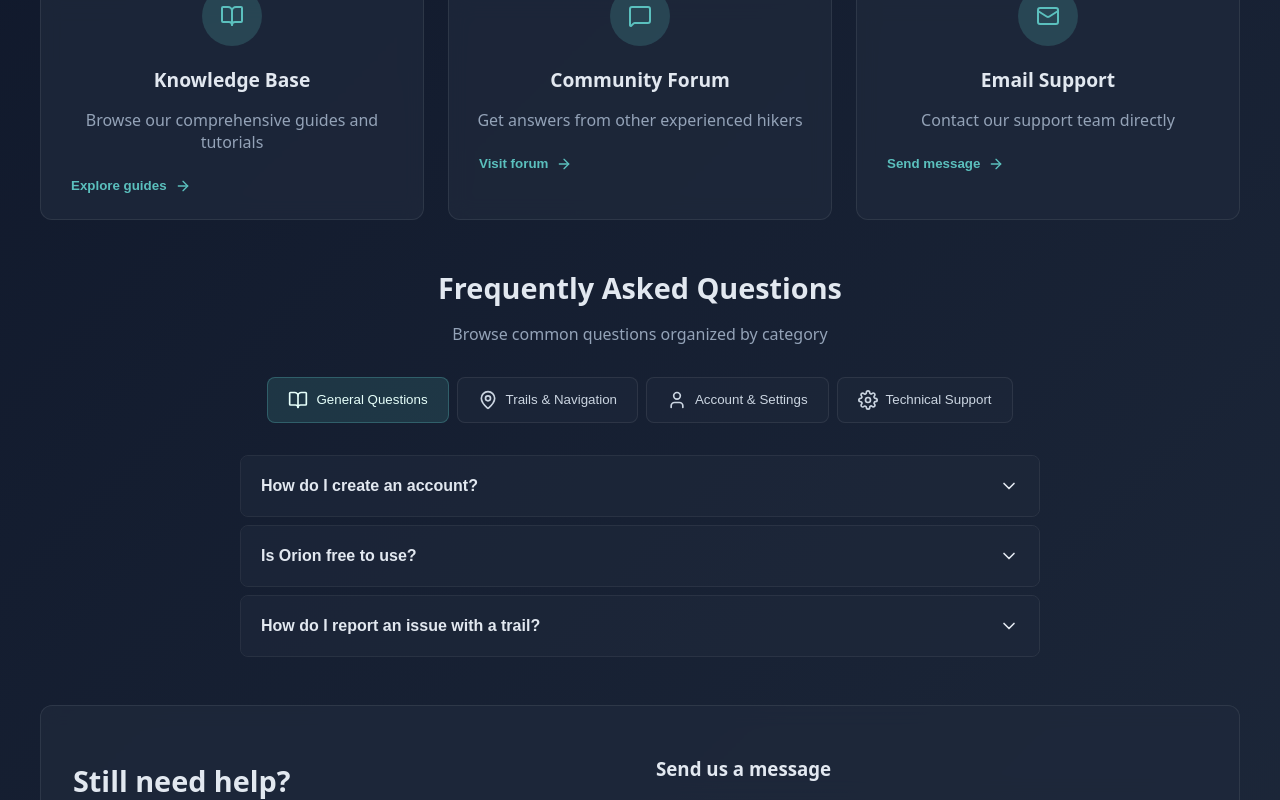
HelpCenterPage Component › Category Navigation › switches to technical category
Click the button "Technical Support" at [925, 400], box [837,377,1013,423]
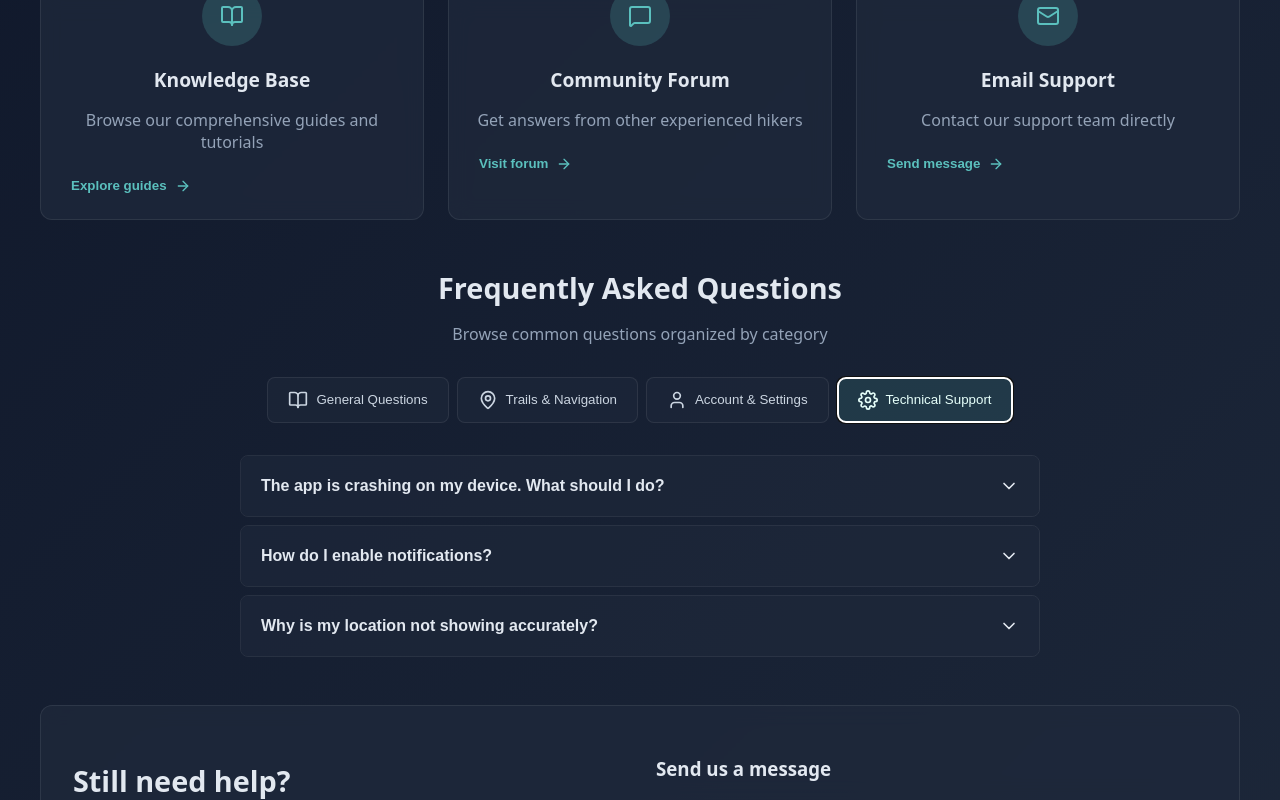
Now the text "The app is crashing on my device. What should I do?" is shown, box [261,477,665,495]
